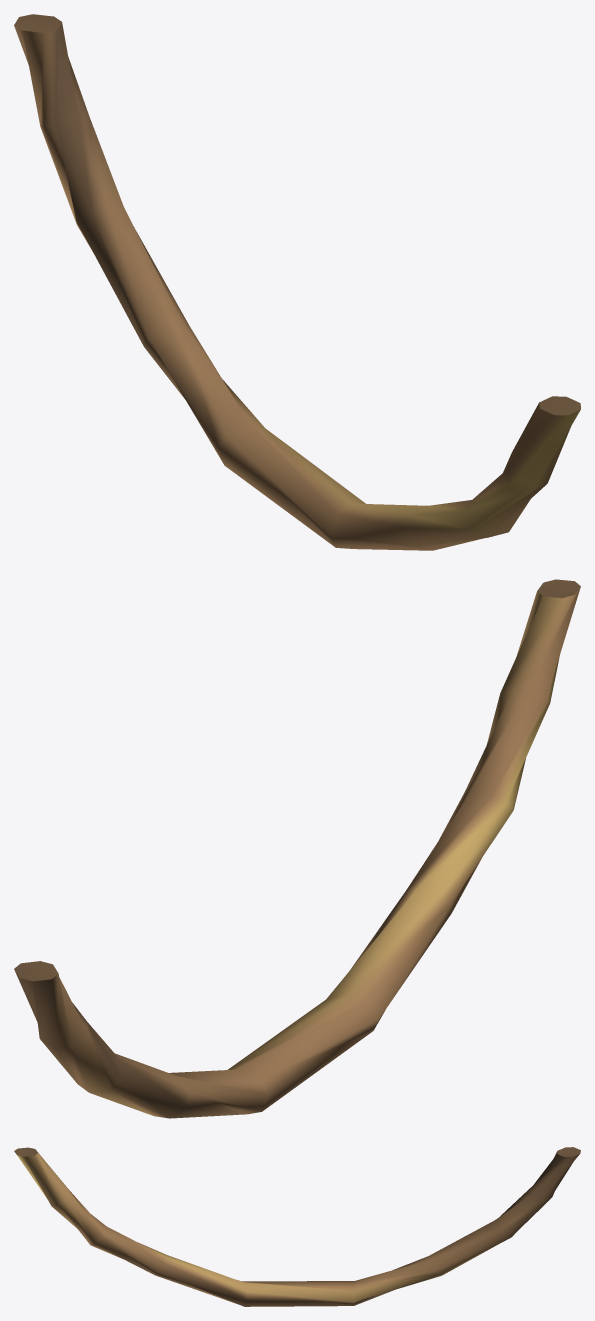
File: vine1.fbx
3 views of the same model, one above another, from view 1: azimuth 30°, elevation 25°; view 2: azimuth 150°, elevation 25°; view 3: azimuth 270°, elevation 25° (orthographic). The views are drawn at different scales.
Visible parts, largest first — view 1: vine1; view 2: vine1; view 3: vine1.
Part boxes in pixels (x1,y1,x2,y2): vine1: (14, 14, 580, 550); vine1: (14, 579, 580, 1118); vine1: (14, 1147, 580, 1306).
Size of the model in its own units: 16.63 by 90.97 by 305.
1 material, 1 textured.
